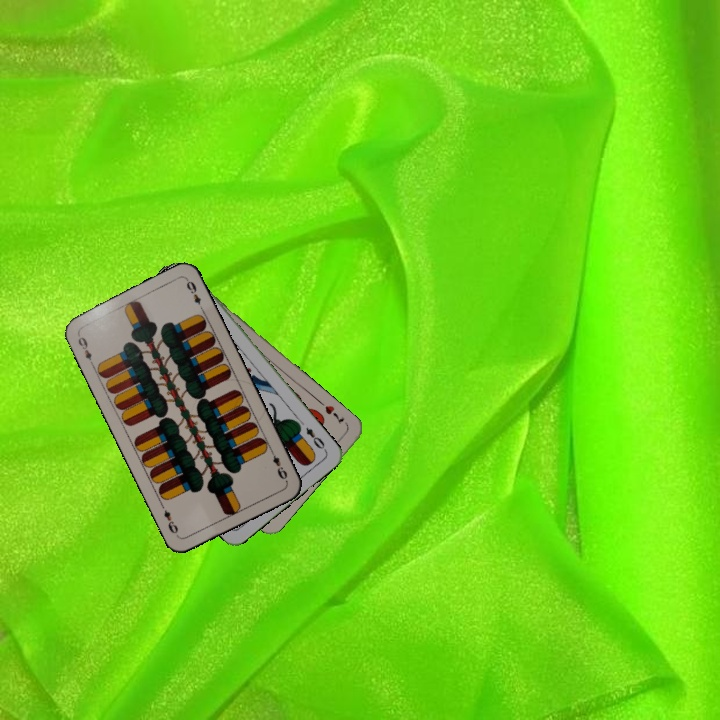E9: (266, 446, 290, 484), (73, 330, 96, 369)
EO: (302, 423, 329, 454)
H7: (321, 401, 347, 427)
